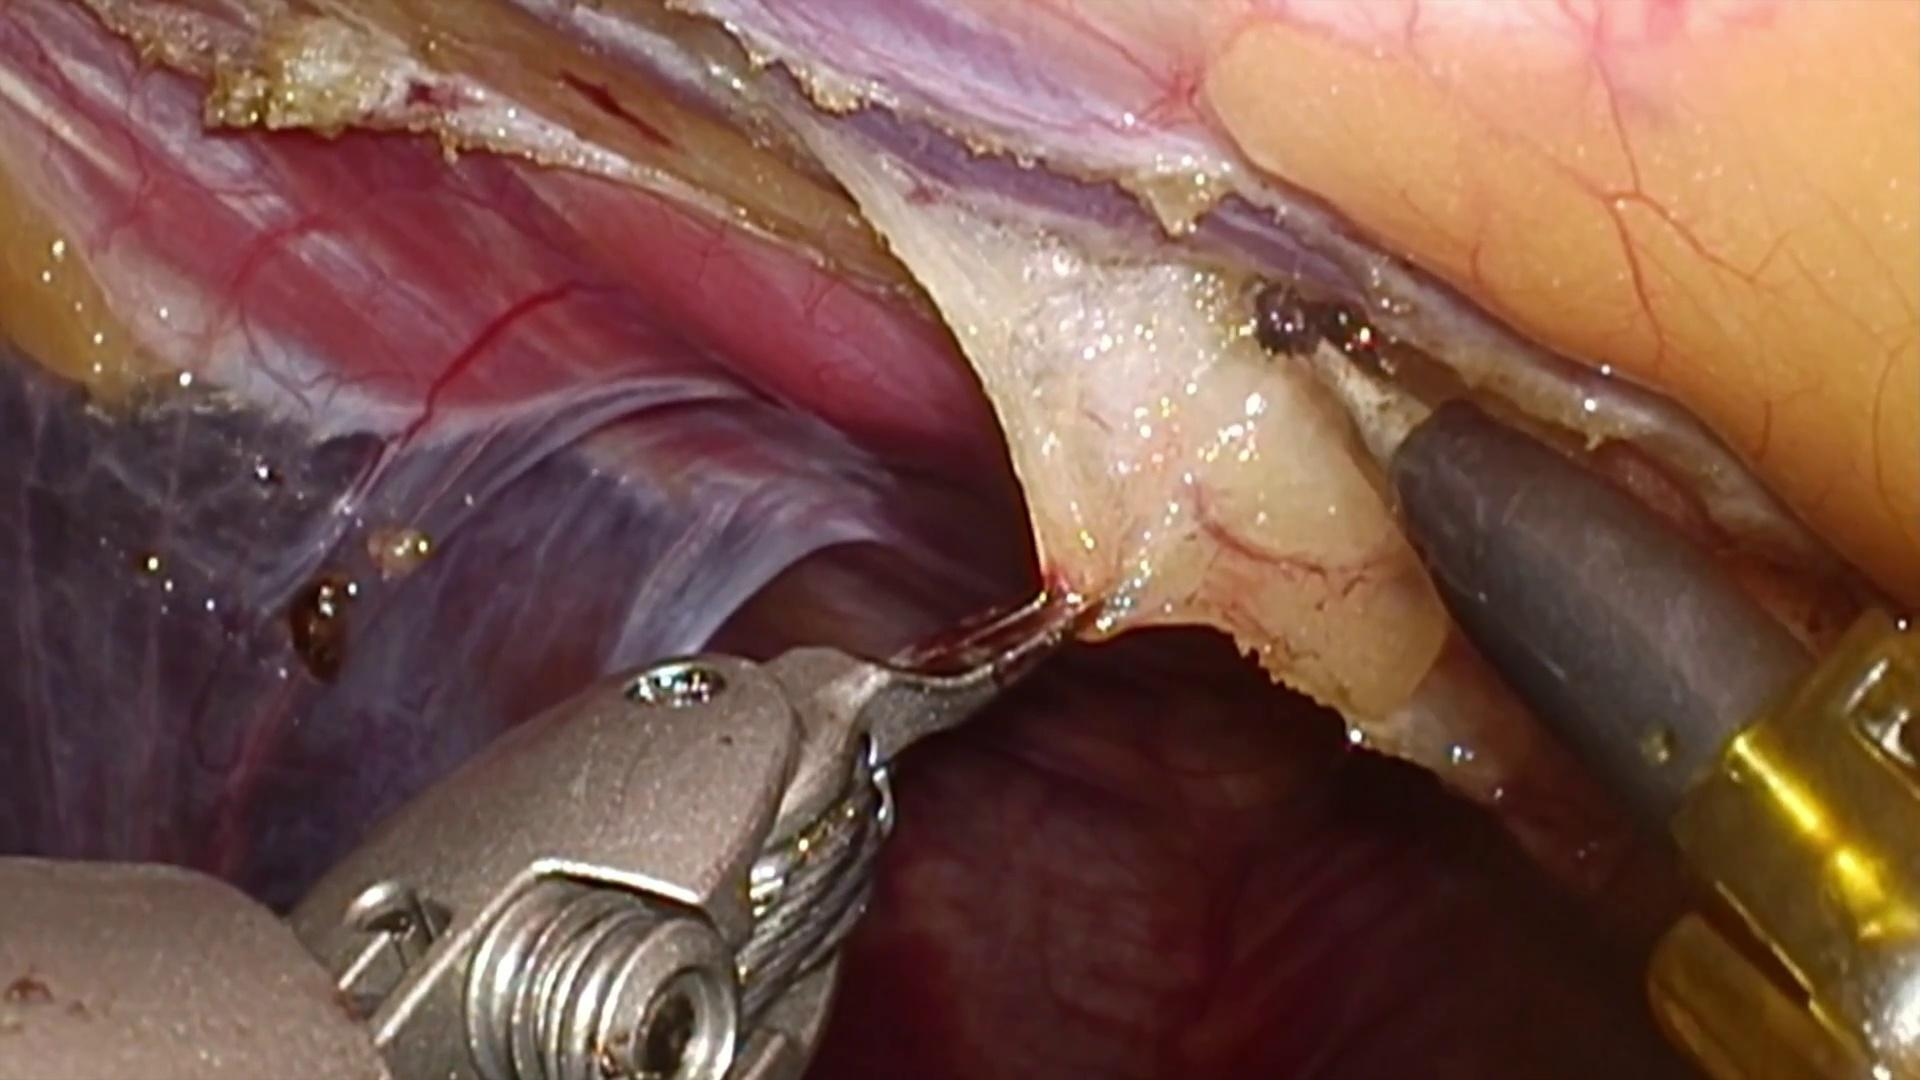Cautery_Spatula: (1269, 297, 1815, 835)
Debakey: (774, 576, 1102, 812)
